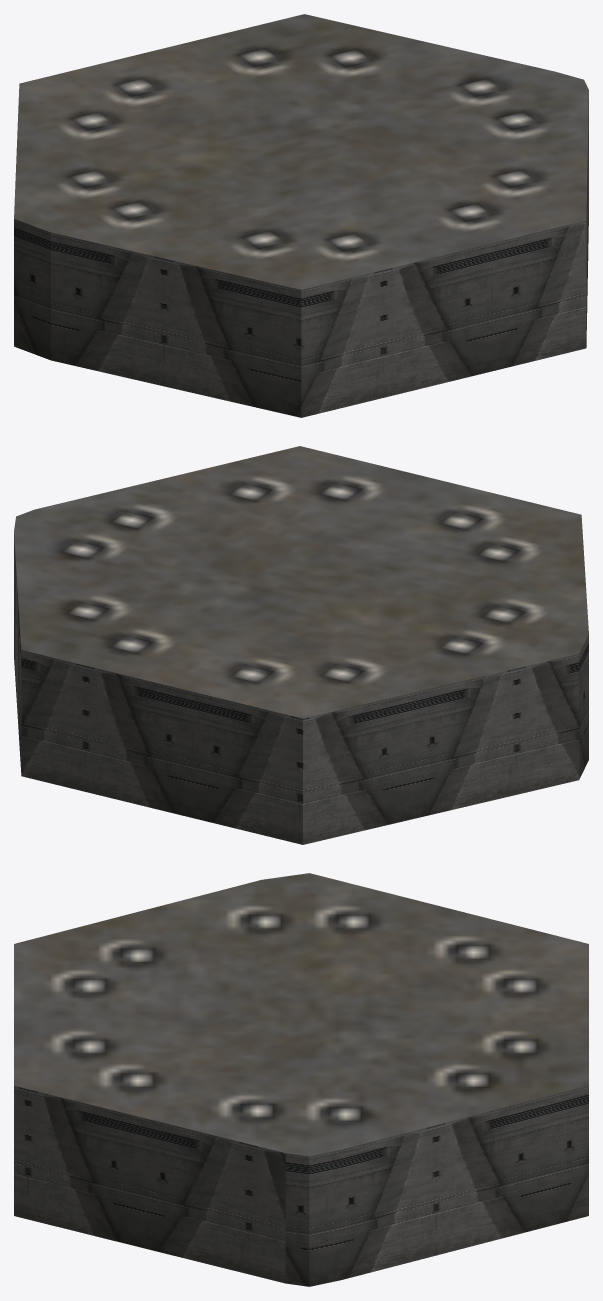
The model's file is fortress_medium_63.glb.
3 renders of one model, top to bottom at view 1: azimuth 30°, elevation 25°; view 2: azimuth 150°, elevation 25°; view 3: azimuth 270°, elevation 25°, orthographic. The views are drawn at different scales.
Parts seen in each view (by area): view 1: buildings/saxarba/fortress_medium/fortress_medium_63; view 2: buildings/saxarba/fortress_medium/fortress_medium_63; view 3: buildings/saxarba/fortress_medium/fortress_medium_63.
Boxes of the visible parts, x1=… form: buildings/saxarba/fortress_medium/fortress_medium_63: x1=14, y1=14, x2=588, y2=417; buildings/saxarba/fortress_medium/fortress_medium_63: x1=14, y1=446, x2=588, y2=844; buildings/saxarba/fortress_medium/fortress_medium_63: x1=14, y1=873, x2=588, y2=1286.
Bounding box in the file's own units: 84 × 18 × 72.
